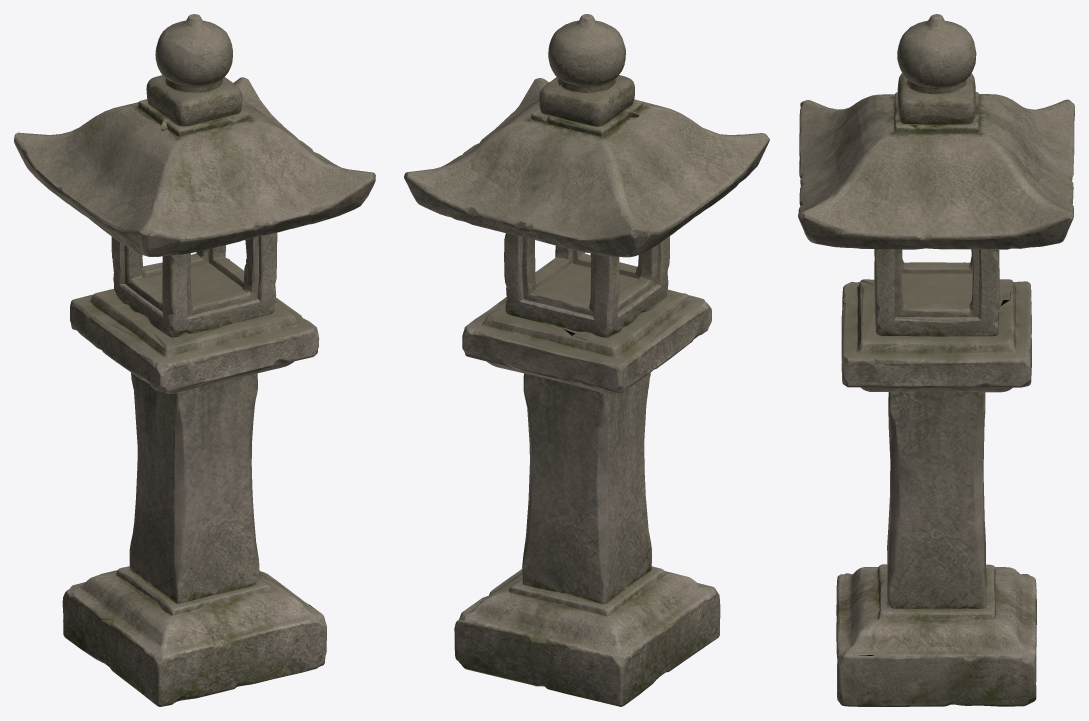
Rendered from kasuga_lantern.glb.
3 views of the same model, side by side, from view 1: azimuth 30°, elevation 25°; view 2: azimuth 150°, elevation 25°; view 3: azimuth 270°, elevation 25° (orthographic). The views are drawn at different scales.
Parts seen in each view (by area): view 1: output_unwrapped; view 2: output_unwrapped; view 3: output_unwrapped.
Part boxes in pixels (bbox=[...]): output_unwrapped: bbox=[14, 14, 375, 706]; output_unwrapped: bbox=[404, 14, 769, 706]; output_unwrapped: bbox=[798, 14, 1074, 706].
Bounding box in the file's own units: 0.7004 × 1.8 × 0.6952.
Materials: 1 (1 with a texture image).
